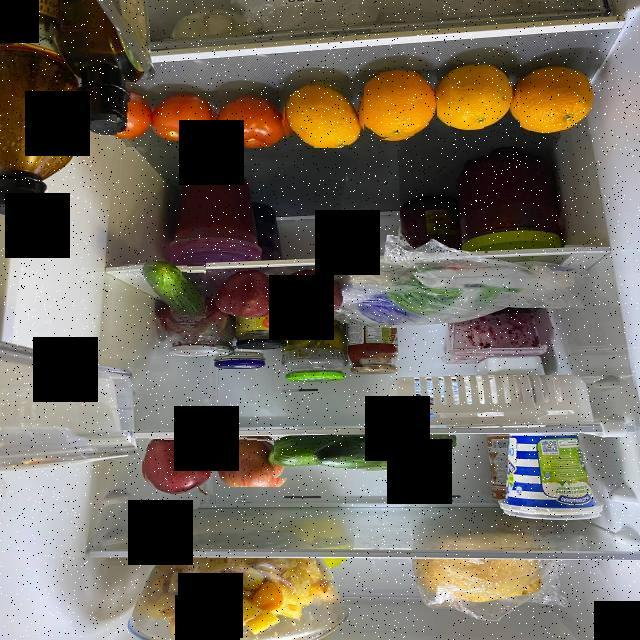Apple: (142, 436, 218, 495), (213, 434, 287, 487), (280, 271, 346, 318), (222, 275, 280, 317)
Cucumber: (332, 435, 462, 471), (274, 436, 370, 478), (144, 254, 207, 318)
Orange: (509, 63, 599, 136), (432, 64, 520, 136), (280, 79, 364, 148), (356, 70, 438, 140)
Tomato: (150, 91, 220, 148), (220, 91, 286, 148), (118, 95, 152, 147)
